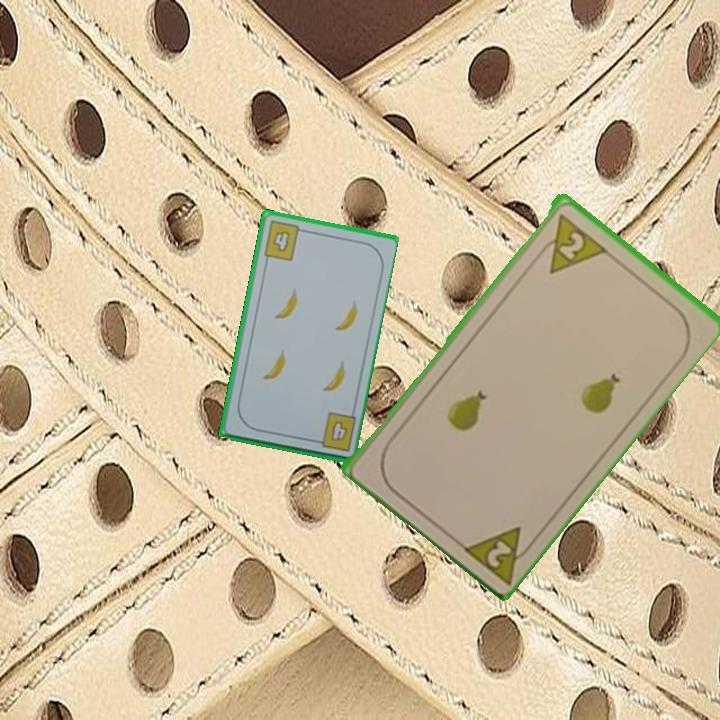2p: (456, 521, 540, 586), (532, 209, 608, 276)
4b: (260, 217, 308, 264), (309, 409, 358, 454)
